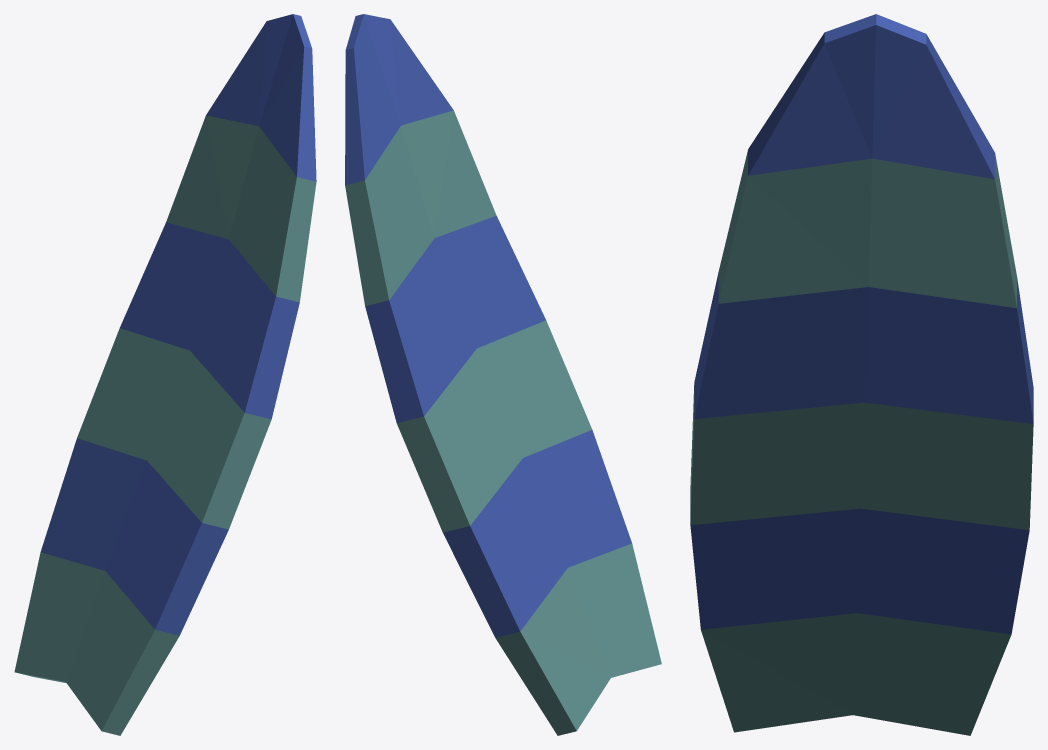
Rendered from bay-surfboard.lod1.glb.
3 renders of one model, left to right at view 1: azimuth 30°, elevation 25°; view 2: azimuth 150°, elevation 25°; view 3: azimuth 270°, elevation 25°, orthographic. The views are drawn at different scales.
Visible parts, largest first — view 1: LightBlue-material; view 2: LightBlue-material; view 3: LightBlue-material.
Part boxes in pixels (bbox=[...]): LightBlue-material: bbox=[14, 14, 316, 735]; LightBlue-material: bbox=[345, 14, 661, 735]; LightBlue-material: bbox=[690, 14, 1033, 735].
Bounding box in the file's own units: 0.8773 × 2.1 × 0.7473.
